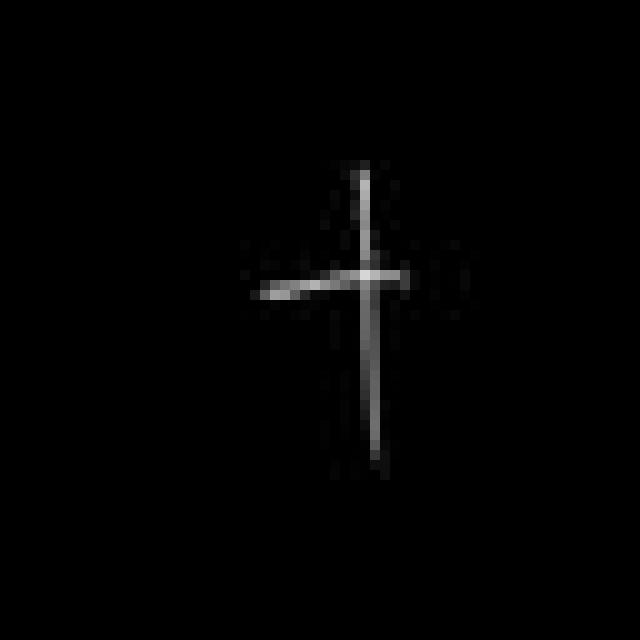10 -ten-: (261, 162, 416, 468)
